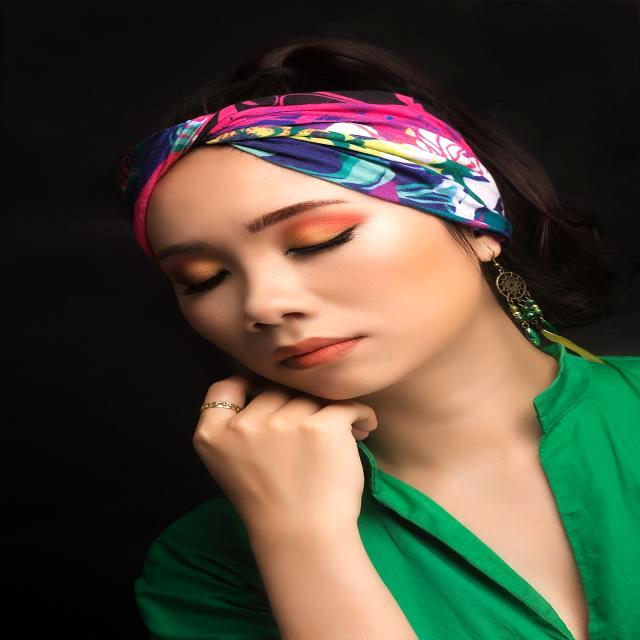no_hard_hat: (121, 91, 511, 240)
person: (125, 42, 639, 640)
